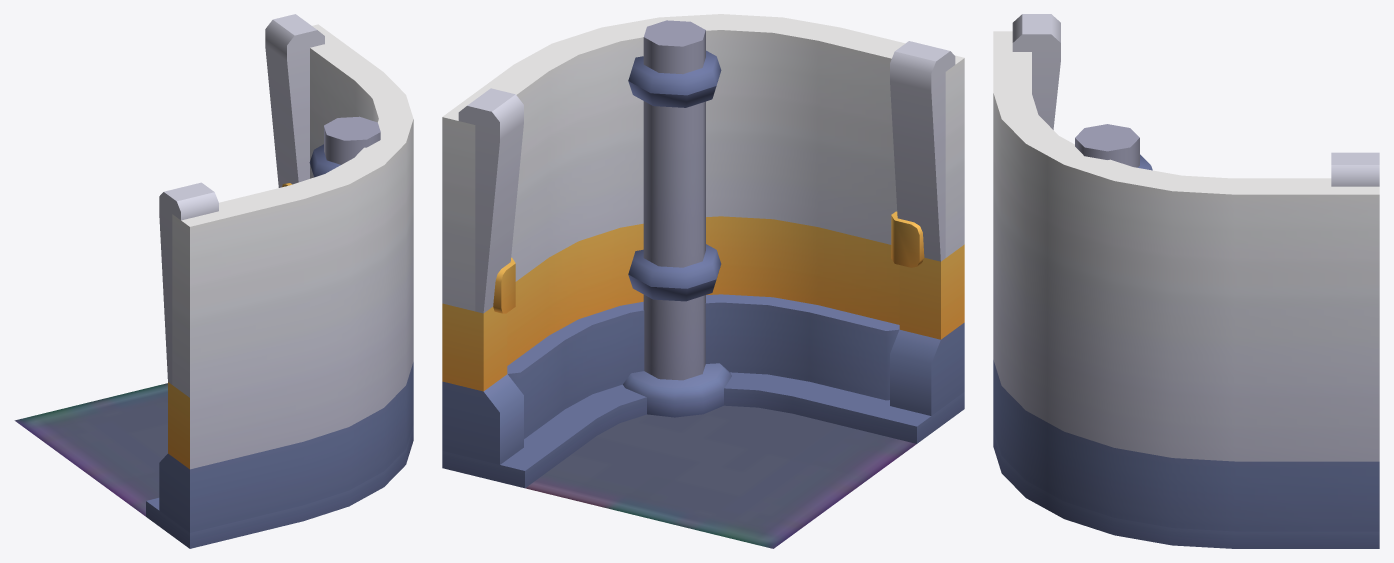
Rendered from template-corner.glb.
The picture shows the model from 3 angles, left to right: view 1: azimuth 30°, elevation 25°; view 2: azimuth 150°, elevation 25°; view 3: azimuth 270°, elevation 25°; orthographic projection. The views are drawn at different scales.
Visible parts, largest first — view 1: template-corner; view 2: template-corner; view 3: template-corner.
Part boxes in pixels (x1=…): template-corner: x1=14, y1=14, x2=413, y2=548; template-corner: x1=442, y1=14, x2=964, y2=548; template-corner: x1=993, y1=14, x2=1379, y2=548.
Bounding box in the file's own units: 4 × 4.25 × 4.
Materials: 1 (1 with a texture image).
